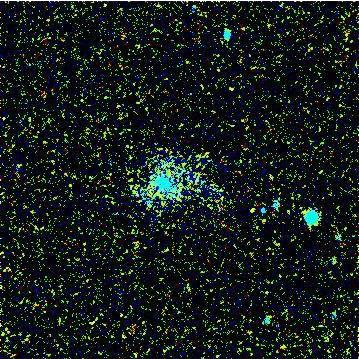star: (238, 194, 268, 224)
